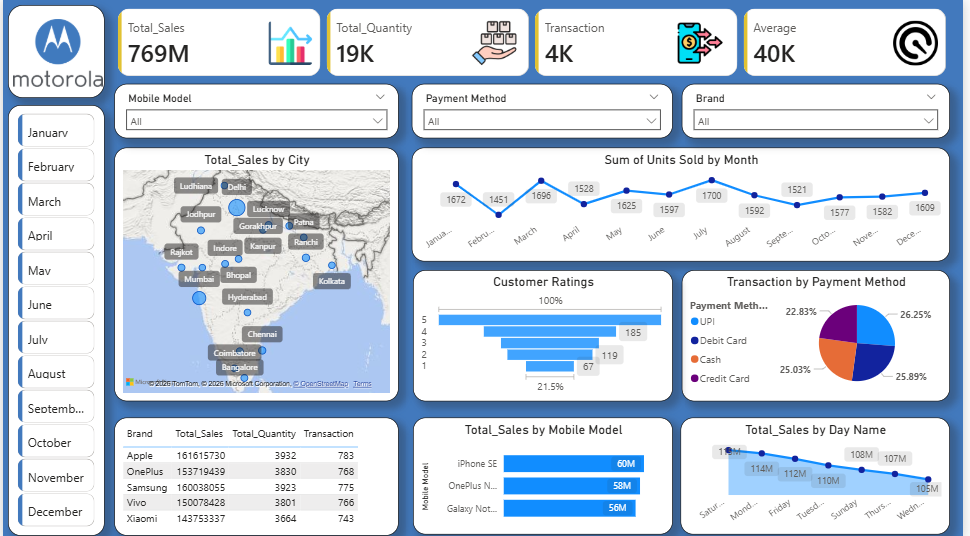

What the dashboard file says about the page in this screenshot:
{"tool":"powerbi","page":{"name":"Page 1","canvas":[1280,720],"ordinal":0},"visuals":[{"type":"shape","box":[7.1,7.1,128.6,124.3],"z":0},{"type":"image","box":[12.9,14.3,120,111.4],"z":1000},{"type":"shape","box":[7.1,140,128.6,574.3],"z":2000},{"type":"advancedSlicerVisual","fields":{"Values":["Sheet1.Date.Variation.Date Hierarchy.Month"]},"box":[15.7,147.1,112.9,561.4],"z":3000},{"type":"cardVisual","fields":{"Data":["Sales_data.Total_sales","Sales_data.Total_Quantity","Sales_data.Transaction","Sales_data.Average"]},"box":[147.9,6.8,1115.1,100],"z":4000},{"type":"map","fields":{"Category":["Sales_data.City"],"Size":["Sales_data.Total_Sales"]},"box":[147.9,197.3,379.5,338.4],"z":5000},{"type":"lineChart","fields":{"Y":["Sum(Sales_data.Units Sold)"],"Category":["Sales_data.Date.Variation.Date Hierarchy.Month","Sales_data.Date.Variation.Date Hierarchy.Day"]},"box":[545.2,197.3,717.8,152.1],"z":6000},{"type":"clusteredBarChart","fields":{"Category":["Sales_data.Mobile Model"],"Y":["Sales_data.Total_Sales"]},"box":[546.6,556.2,346.6,156.2],"z":7000},{"type":"pieChart","fields":{"Category":["Sales_data.Payment Method"],"Y":["Sales_data.Transaction"]},"box":[905.5,360.3,357.5,175.3],"z":8000},{"type":"funnel","title":" Customer Ratings","fields":{"Category":["Sales_data.Customer Ratings"],"Y":["CountNonNull(Sales_data.Customer Ratings)"]},"box":[546.6,360.3,346.6,175.3],"z":9000},{"type":"areaChart","fields":{"Category":["Sales_data.Day Name"],"Y":["Sales_data.Total_Sales"]},"box":[904.1,556.2,358.9,156.2],"z":10000},{"type":"tableEx","fields":{"Values":["Sales_data.Brand","Sales_data.Total_Sales","Sales_data.Total_Quantity","Sales_data.Transaction"]},"box":[147.9,556.2,379.5,157.5],"z":11000},{"type":"slicer","fields":{"Values":["Sales_data.Mobile Model"]},"box":[147.9,111,379.5,72.6],"z":12000},{"type":"slicer","fields":{"Values":["Sales_data.Payment Method"]},"box":[545.2,112.3,347.9,72.6],"z":13000},{"type":"slicer","fields":{"Values":["Sales_data.Brand"]},"box":[905.5,112.3,357.5,72.6],"z":14000}]}

Visuals, with their boxes in screenshot pixels (x1, y1, x2, y2), scaled from the page's 1280x720 canvas onto the 970x536 screenshot:
shape: {"x1": 5, "y1": 5, "x2": 103, "y2": 98}
image: {"x1": 10, "y1": 11, "x2": 101, "y2": 94}
shape: {"x1": 5, "y1": 104, "x2": 103, "y2": 532}
advancedSlicerVisual - Sheet1.Date.Variation.Date Hierarchy.Month: {"x1": 12, "y1": 110, "x2": 97, "y2": 527}
cardVisual - Sales_data.Total_sales x Sales_data.Total_Quantity: {"x1": 112, "y1": 5, "x2": 957, "y2": 80}
map - Sales_data.City x Sales_data.Total_Sales: {"x1": 112, "y1": 147, "x2": 400, "y2": 399}
lineChart - Sum(Sales_data.Units Sold) x Sales_data.Date.Variation.Date Hierarchy.Month: {"x1": 413, "y1": 147, "x2": 957, "y2": 260}
clusteredBarChart - Sales_data.Mobile Model x Sales_data.Total_Sales: {"x1": 414, "y1": 414, "x2": 677, "y2": 530}
pieChart - Sales_data.Payment Method x Sales_data.Transaction: {"x1": 686, "y1": 268, "x2": 957, "y2": 399}
" Customer Ratings" funnel: {"x1": 414, "y1": 268, "x2": 677, "y2": 399}
areaChart - Sales_data.Day Name x Sales_data.Total_Sales: {"x1": 685, "y1": 414, "x2": 957, "y2": 530}
tableEx - Sales_data.Brand x Sales_data.Total_Sales: {"x1": 112, "y1": 414, "x2": 400, "y2": 531}
slicer - Sales_data.Mobile Model: {"x1": 112, "y1": 83, "x2": 400, "y2": 137}
slicer - Sales_data.Payment Method: {"x1": 413, "y1": 84, "x2": 677, "y2": 138}
slicer - Sales_data.Brand: {"x1": 686, "y1": 84, "x2": 957, "y2": 138}
